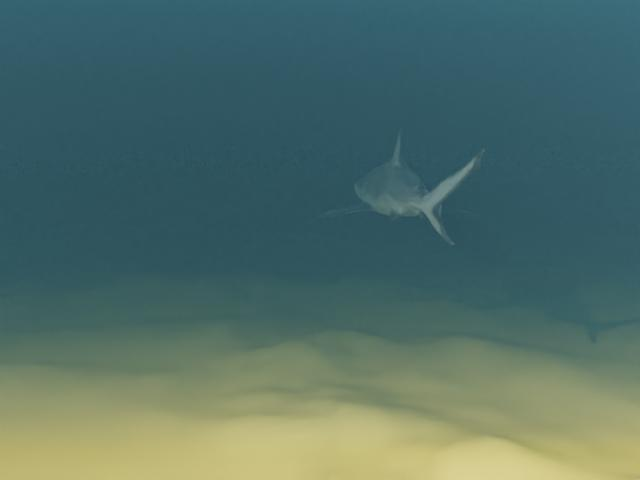Carribean Shark.001: (309, 129, 485, 245)
